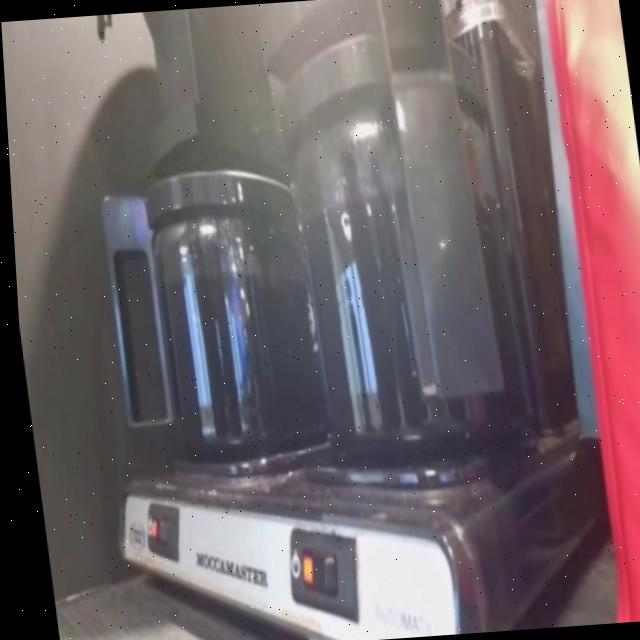coffee: (248, 17, 540, 476), (131, 143, 336, 466)
